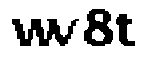8: (80, 6, 114, 49)
t: (114, 11, 140, 49)
v: (52, 14, 79, 47)
w: (9, 14, 54, 49)
